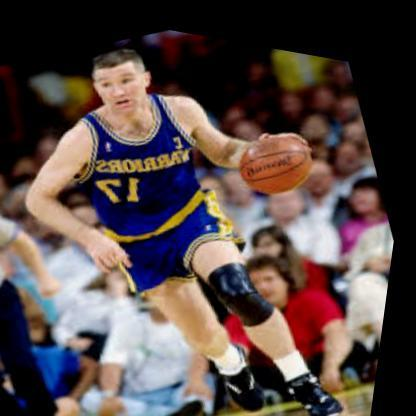basketball: (229, 107, 327, 200)
